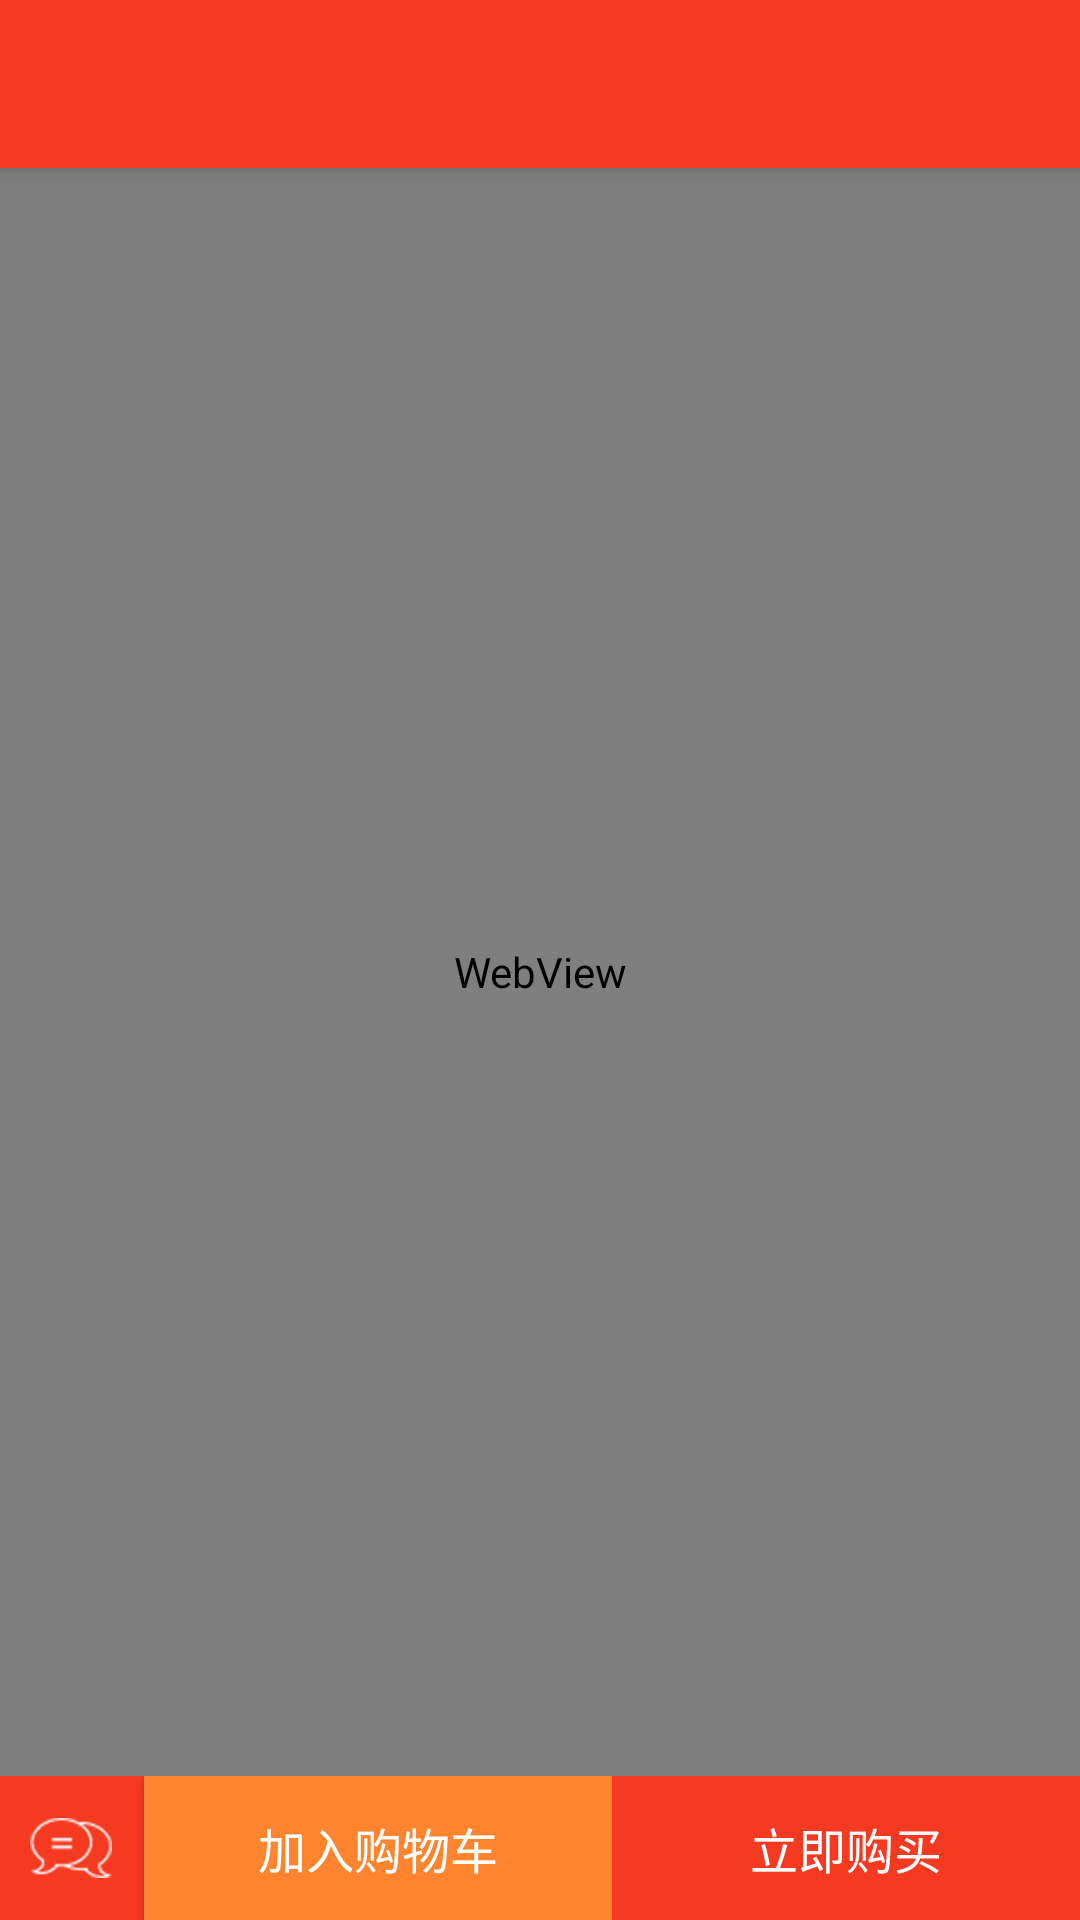

Where to tap for icons on this 1080×1920 app screen, as (x,y):
message: (71,1848)
